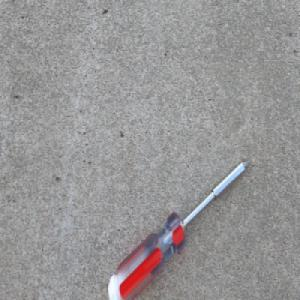Screwdriver: (105, 155, 252, 300)
